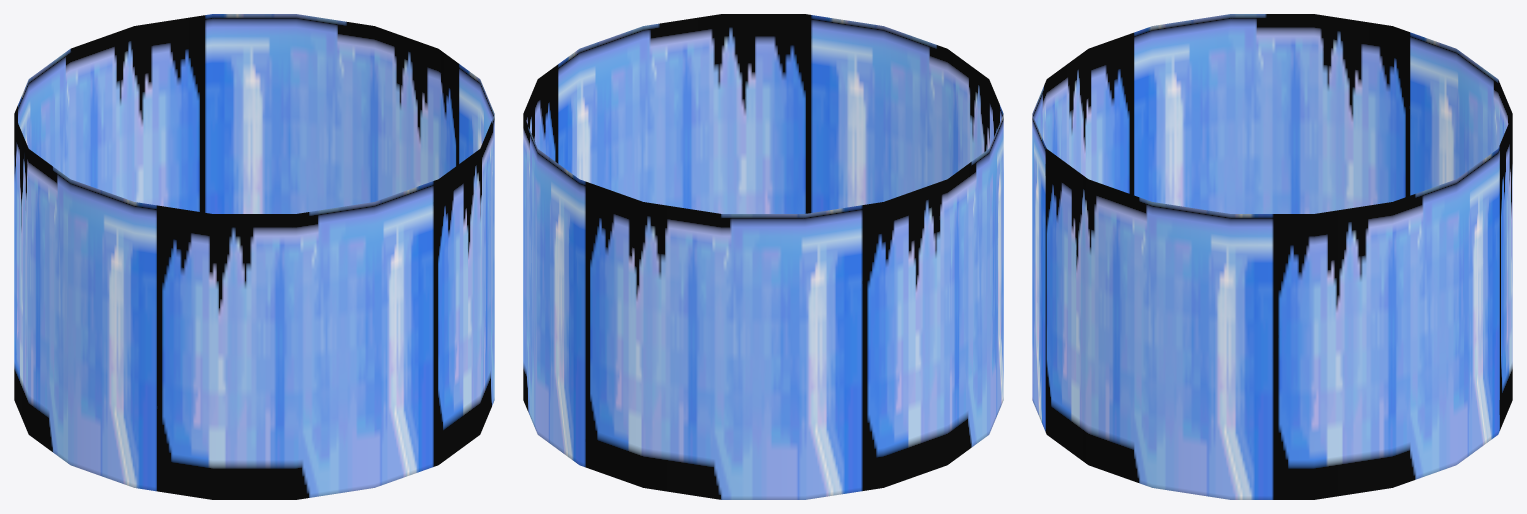
Rendered from zinstuba-9423290e.glb.
The picture shows the model from 3 angles, left to right: view 1: azimuth 30°, elevation 25°; view 2: azimuth 150°, elevation 25°; view 3: azimuth 270°, elevation 25°; orthographic projection.
Visible parts, largest first — view 1: zinstuba; view 2: zinstuba; view 3: zinstuba.
Boxes of the visible parts, box(x1,y1,x2,y2) form: zinstuba: box(14, 14, 494, 499); zinstuba: box(523, 14, 1003, 499); zinstuba: box(1032, 14, 1512, 499).
Bounding box in the file's own units: 0.7356 × 0.4905 × 0.7469.
1 material, 1 textured.
